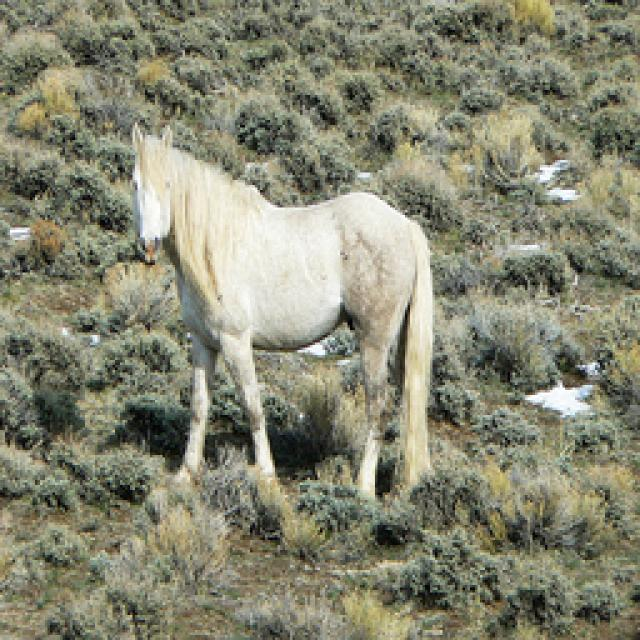Horse: (113, 125, 444, 518)
